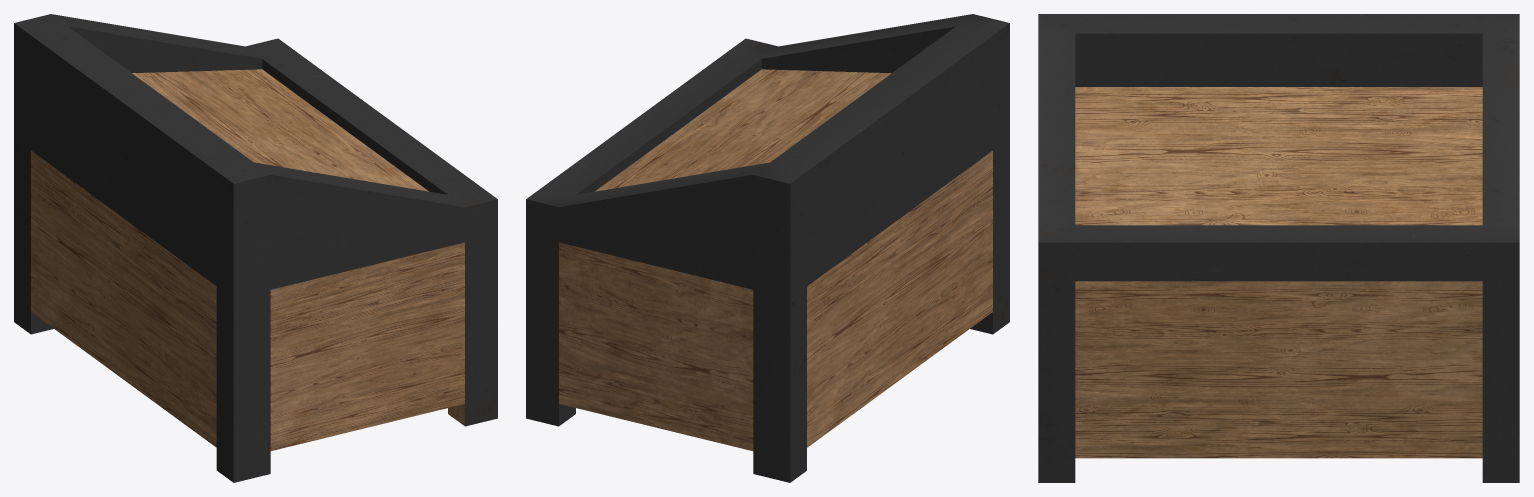
The model's file is fruits shelves.fbx.
3 renders of one model, left to right at view 1: azimuth 30°, elevation 25°; view 2: azimuth 150°, elevation 25°; view 3: azimuth 270°, elevation 25°, orthographic. The views are drawn at different scales.
Parts seen in each view (by area): view 1: fruits_holder; view 2: fruits_holder; view 3: fruits_holder.
Part boxes in pixels (left/top/right/bottom): fruits_holder: left=14, top=14, right=497, bottom=482; fruits_holder: left=526, top=14, right=1009, bottom=482; fruits_holder: left=1038, top=14, right=1519, bottom=482.
Size of the model in its own units: 1.58 by 1.71 by 2.27.
Materials: 1 (1 with a texture image).
